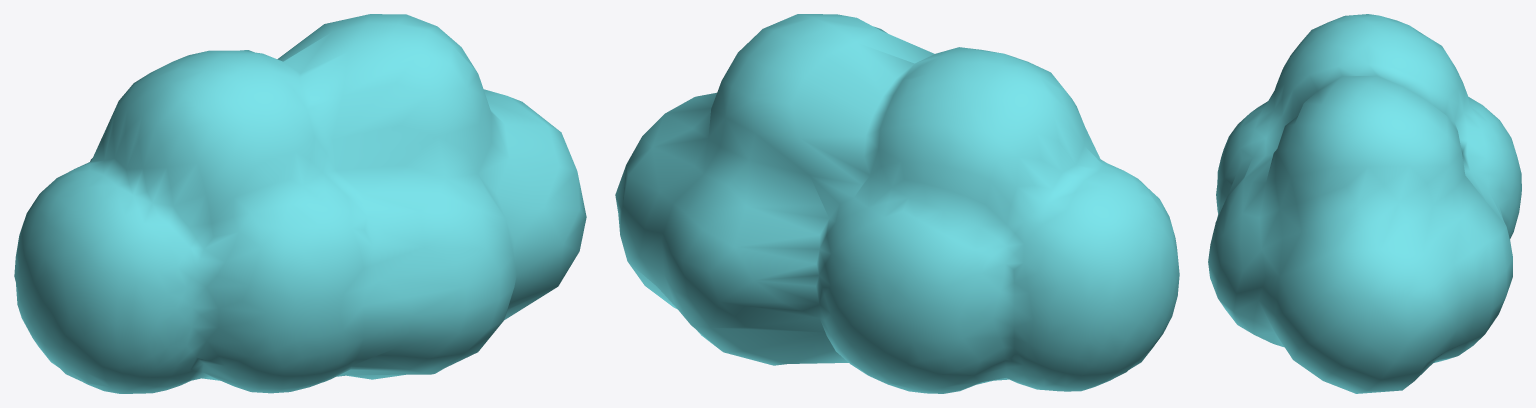
The model's file is nuagebleuciel.fbx.
The picture shows the model from 3 angles, left to right: view 1: azimuth 30°, elevation 25°; view 2: azimuth 150°, elevation 25°; view 3: azimuth 270°, elevation 25°; orthographic projection. The views are drawn at different scales.
Parts seen in each view (by area): view 1: pPlatonic12; view 2: pPlatonic12; view 3: pPlatonic12.
Boxes of the visible parts, bbox=[...] form: pPlatonic12: bbox=[14, 14, 586, 393]; pPlatonic12: bbox=[615, 14, 1179, 393]; pPlatonic12: bbox=[1208, 14, 1521, 393].
Bounding box in the file's own units: 2.62 × 1.55 × 1.62.
